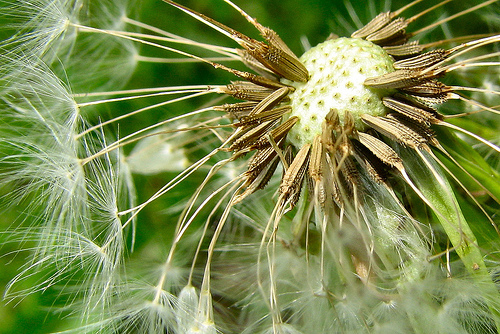dandelion: (4, 3, 500, 330)
